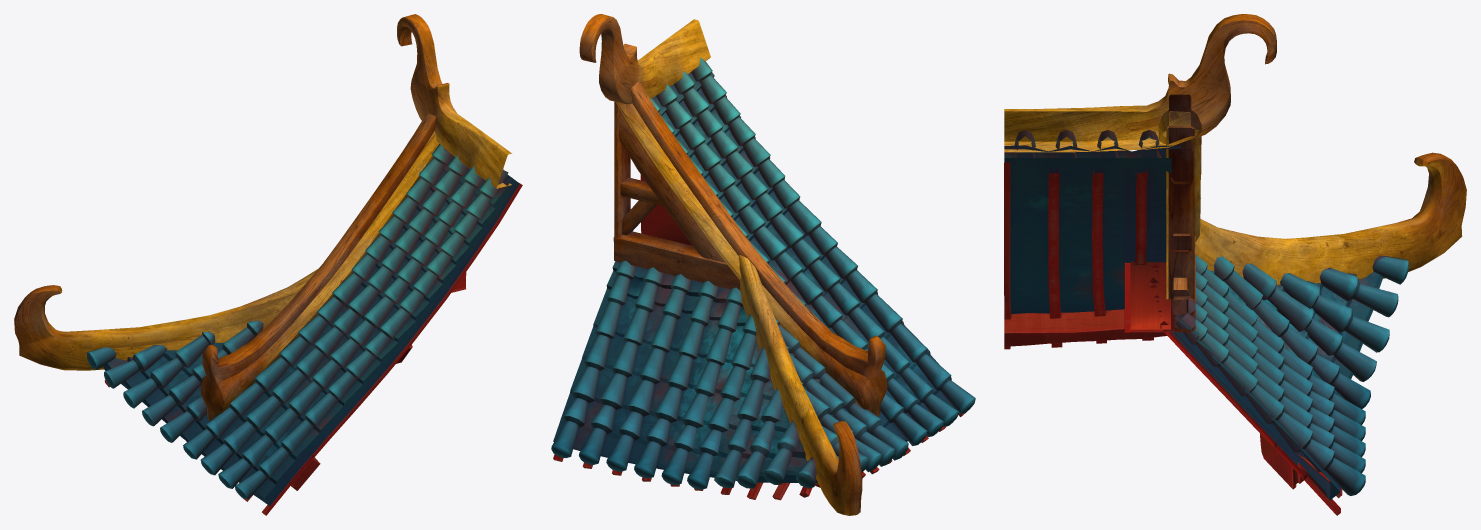
File: SM_BigRoof_Angle.glb
3 views of the same model, side by side, from view 1: azimuth 30°, elevation 25°; view 2: azimuth 150°, elevation 25°; view 3: azimuth 270°, elevation 25° (orthographic). The views are drawn at different scales.
Parts seen in each view (by area): view 1: SM_BigRoof_Angle_LOD0; view 2: SM_BigRoof_Angle_LOD0; view 3: SM_BigRoof_Angle_LOD0.
Boxes of the visible parts, bbox=[...] form: SM_BigRoof_Angle_LOD0: bbox=[14, 14, 522, 515]; SM_BigRoof_Angle_LOD0: bbox=[551, 14, 975, 515]; SM_BigRoof_Angle_LOD0: bbox=[1004, 14, 1466, 515].
Size of the model in its own units: 2.86 by 3.09 by 2.62.
2 materials, 2 textured.
